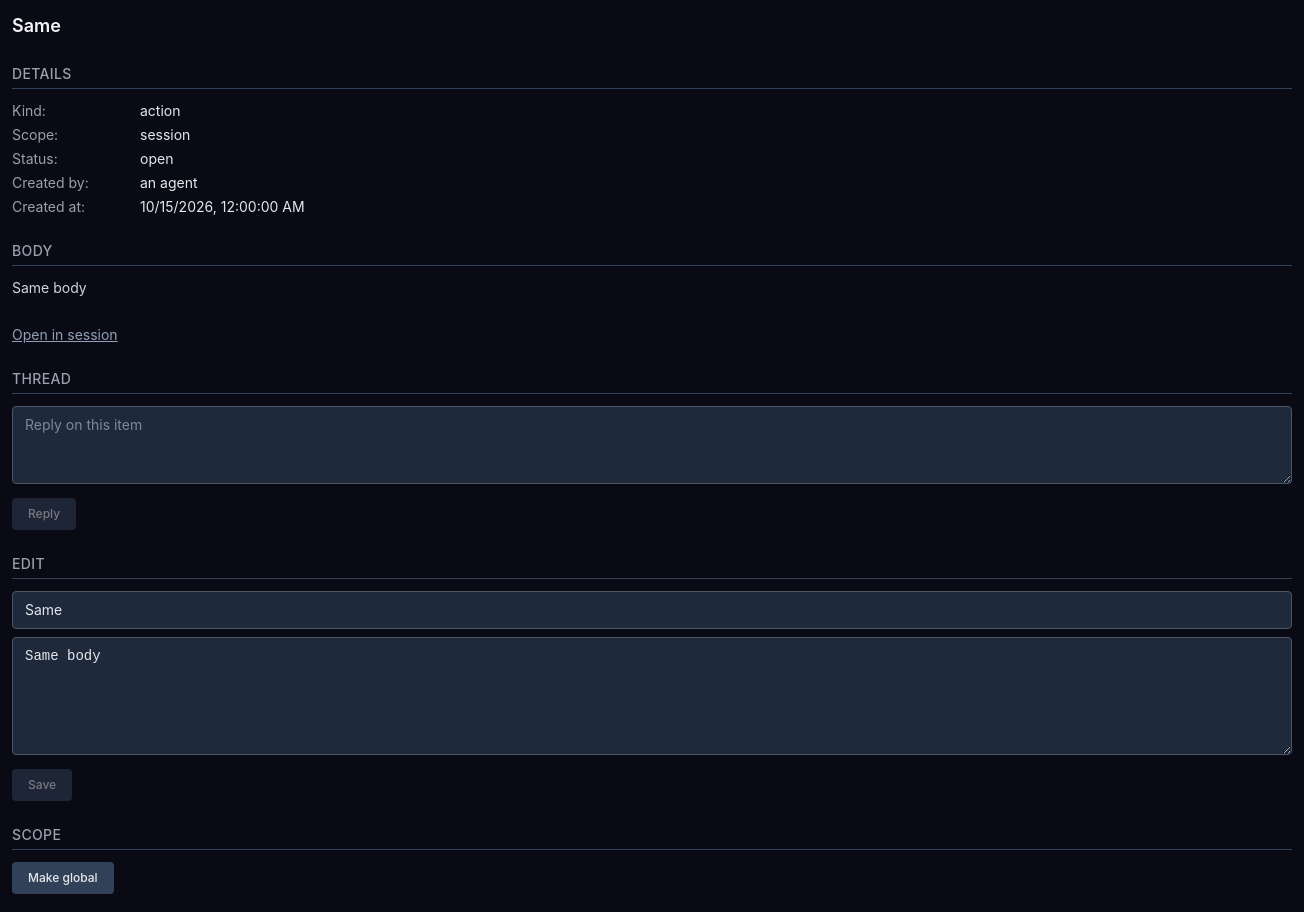
Test: TodoDetail › edit › Save is disabled until something changed, and for a blank title
Check: the button "Save" is disabled, box [12,769,72,801]
In the text box named "Edit body": (652, 696) [12,637,1292,755], type "!"
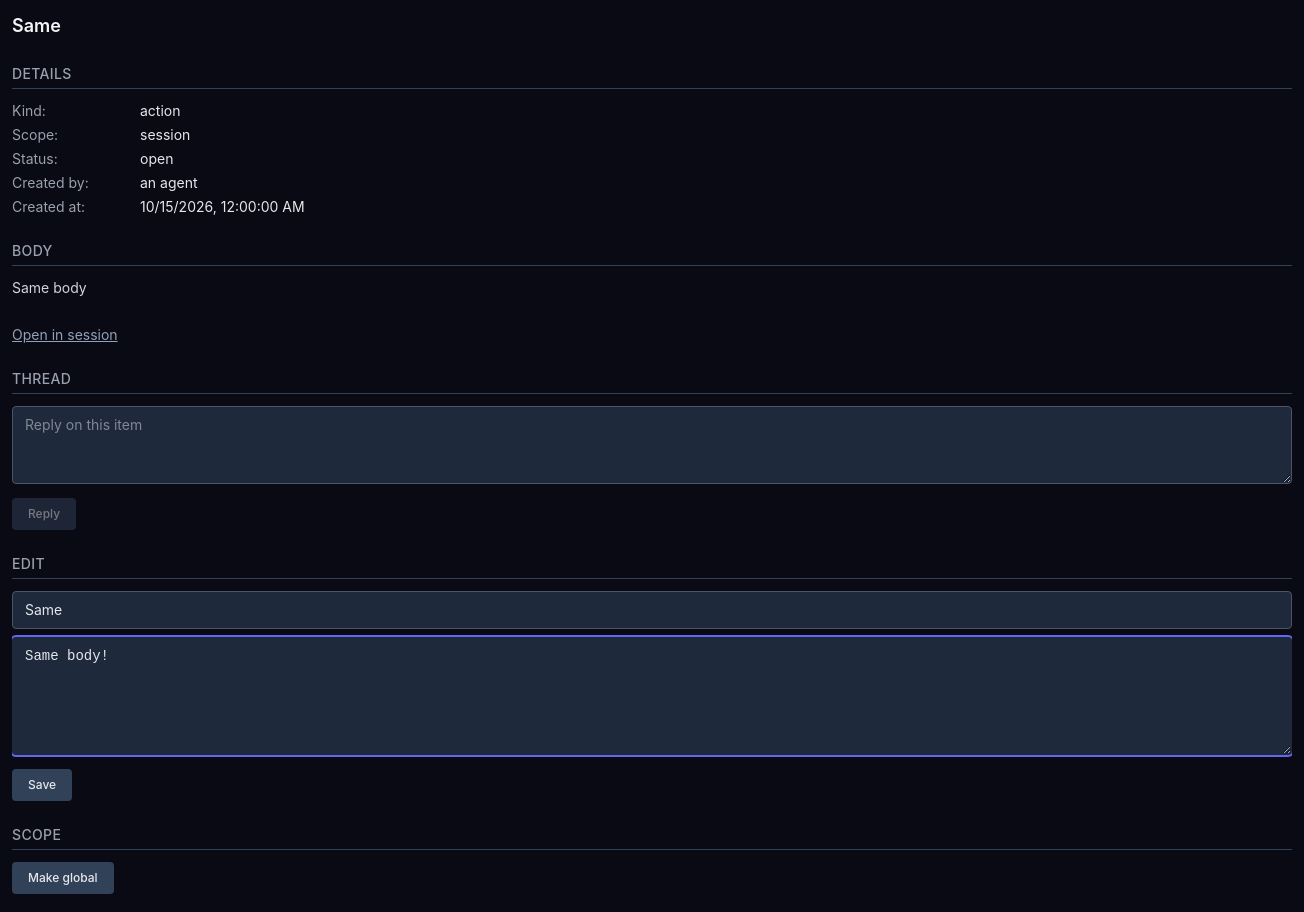
Check: the button "Save" is enabled, box [12,769,72,801]
Clear the field named "Edit title": (652, 610) [12,591,1292,629]
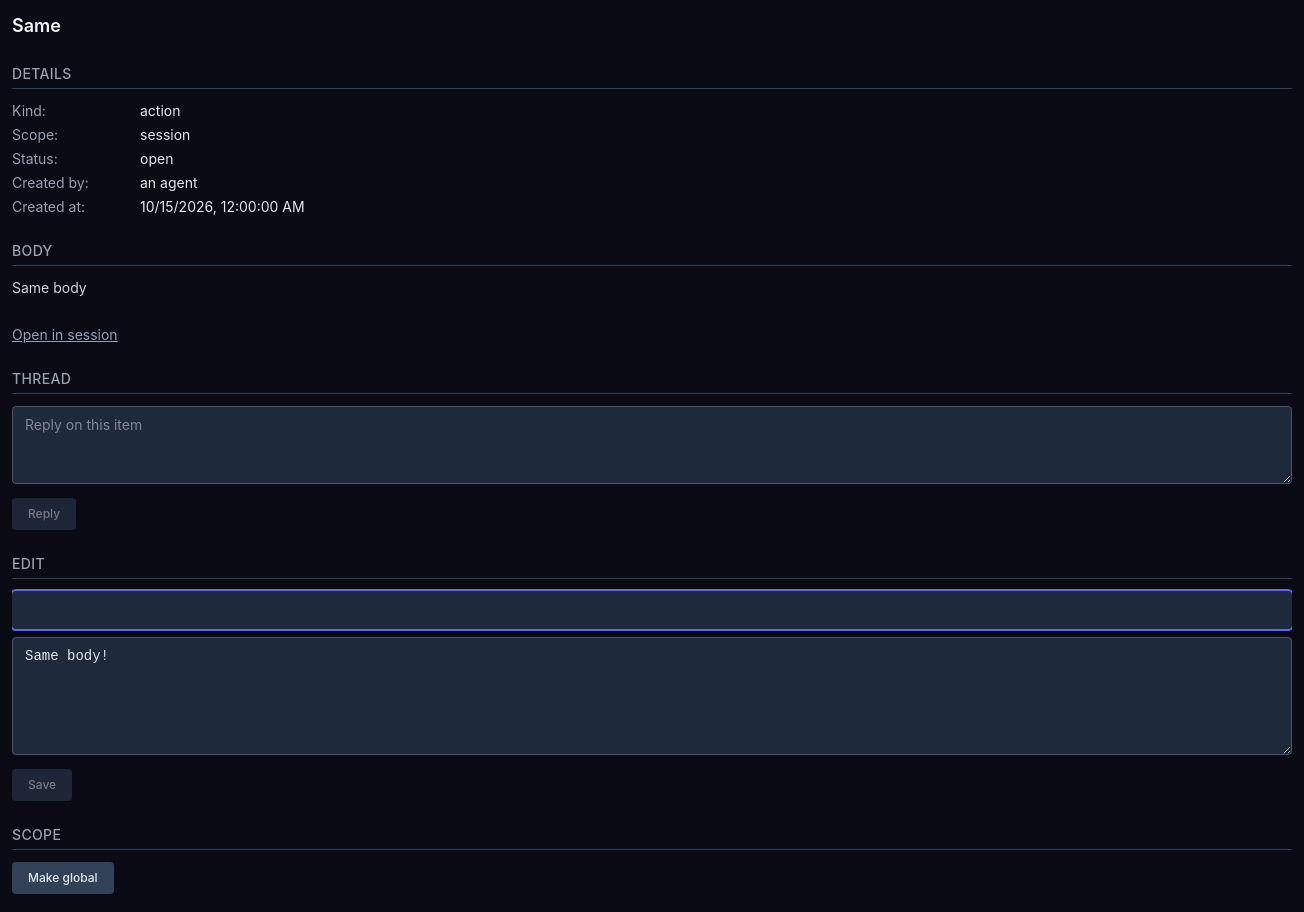
Check: the button "Save" is disabled, box [12,769,72,801]
